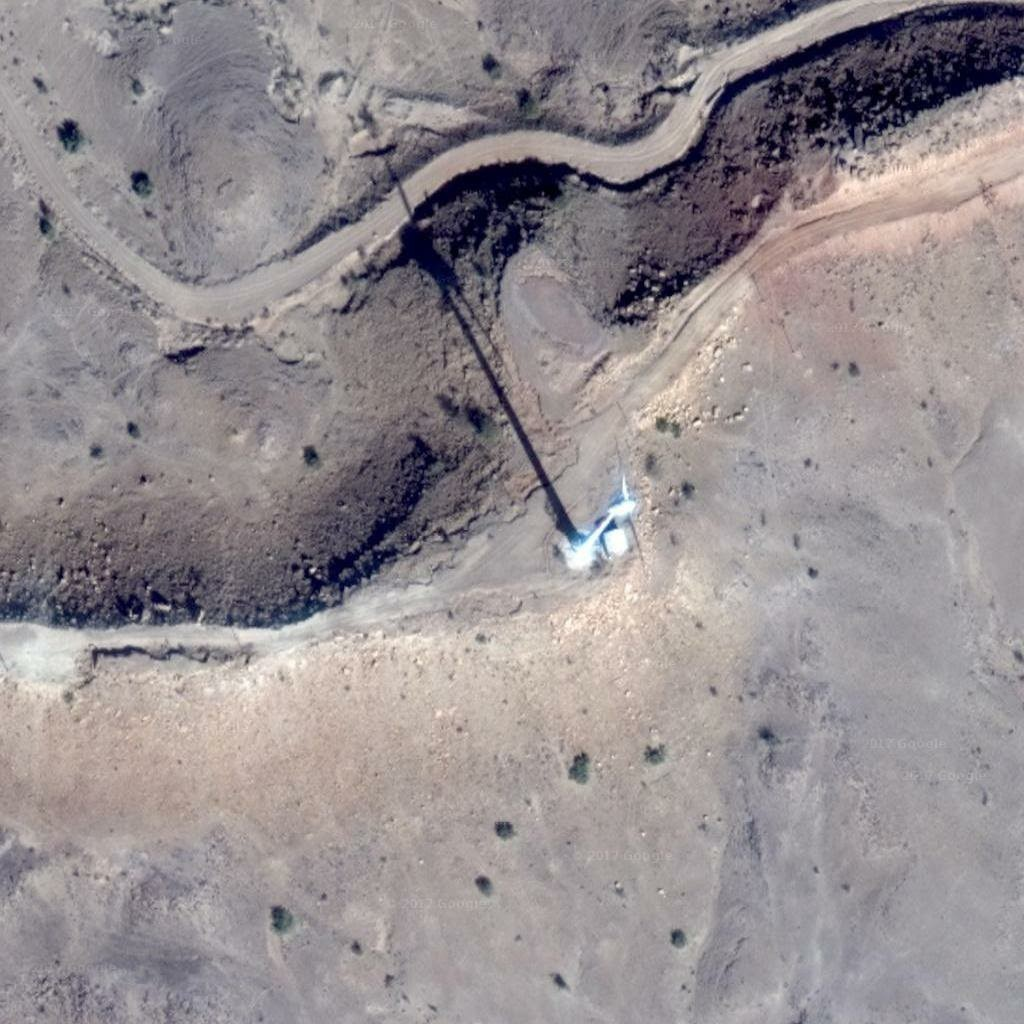Windmill: (345, 144, 615, 563)
